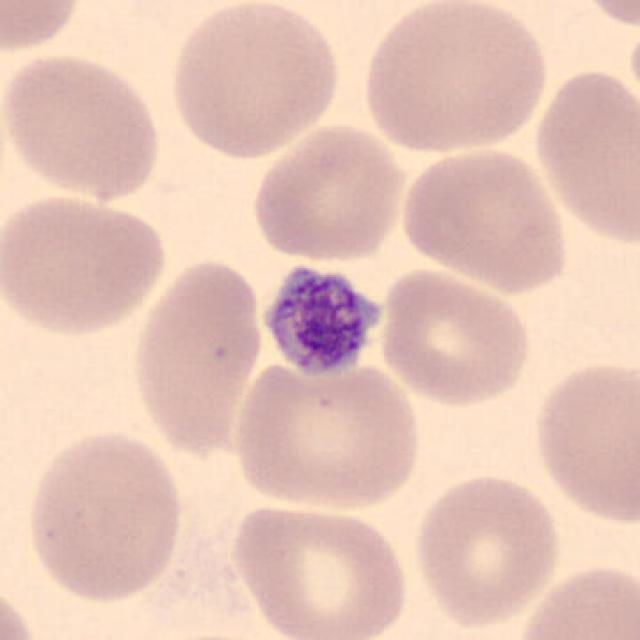Platelets: (258, 256, 393, 380)
RBC: (228, 351, 427, 515), (357, 0, 553, 157), (22, 425, 188, 608), (164, 0, 346, 162), (125, 252, 266, 460), (395, 143, 574, 296), (224, 499, 412, 640), (0, 48, 167, 202), (0, 188, 171, 338), (409, 467, 565, 631), (375, 263, 535, 409), (247, 120, 409, 264), (528, 63, 640, 247), (526, 354, 640, 528), (508, 557, 638, 640), (0, 0, 87, 58), (0, 576, 44, 640), (563, 0, 640, 31)
